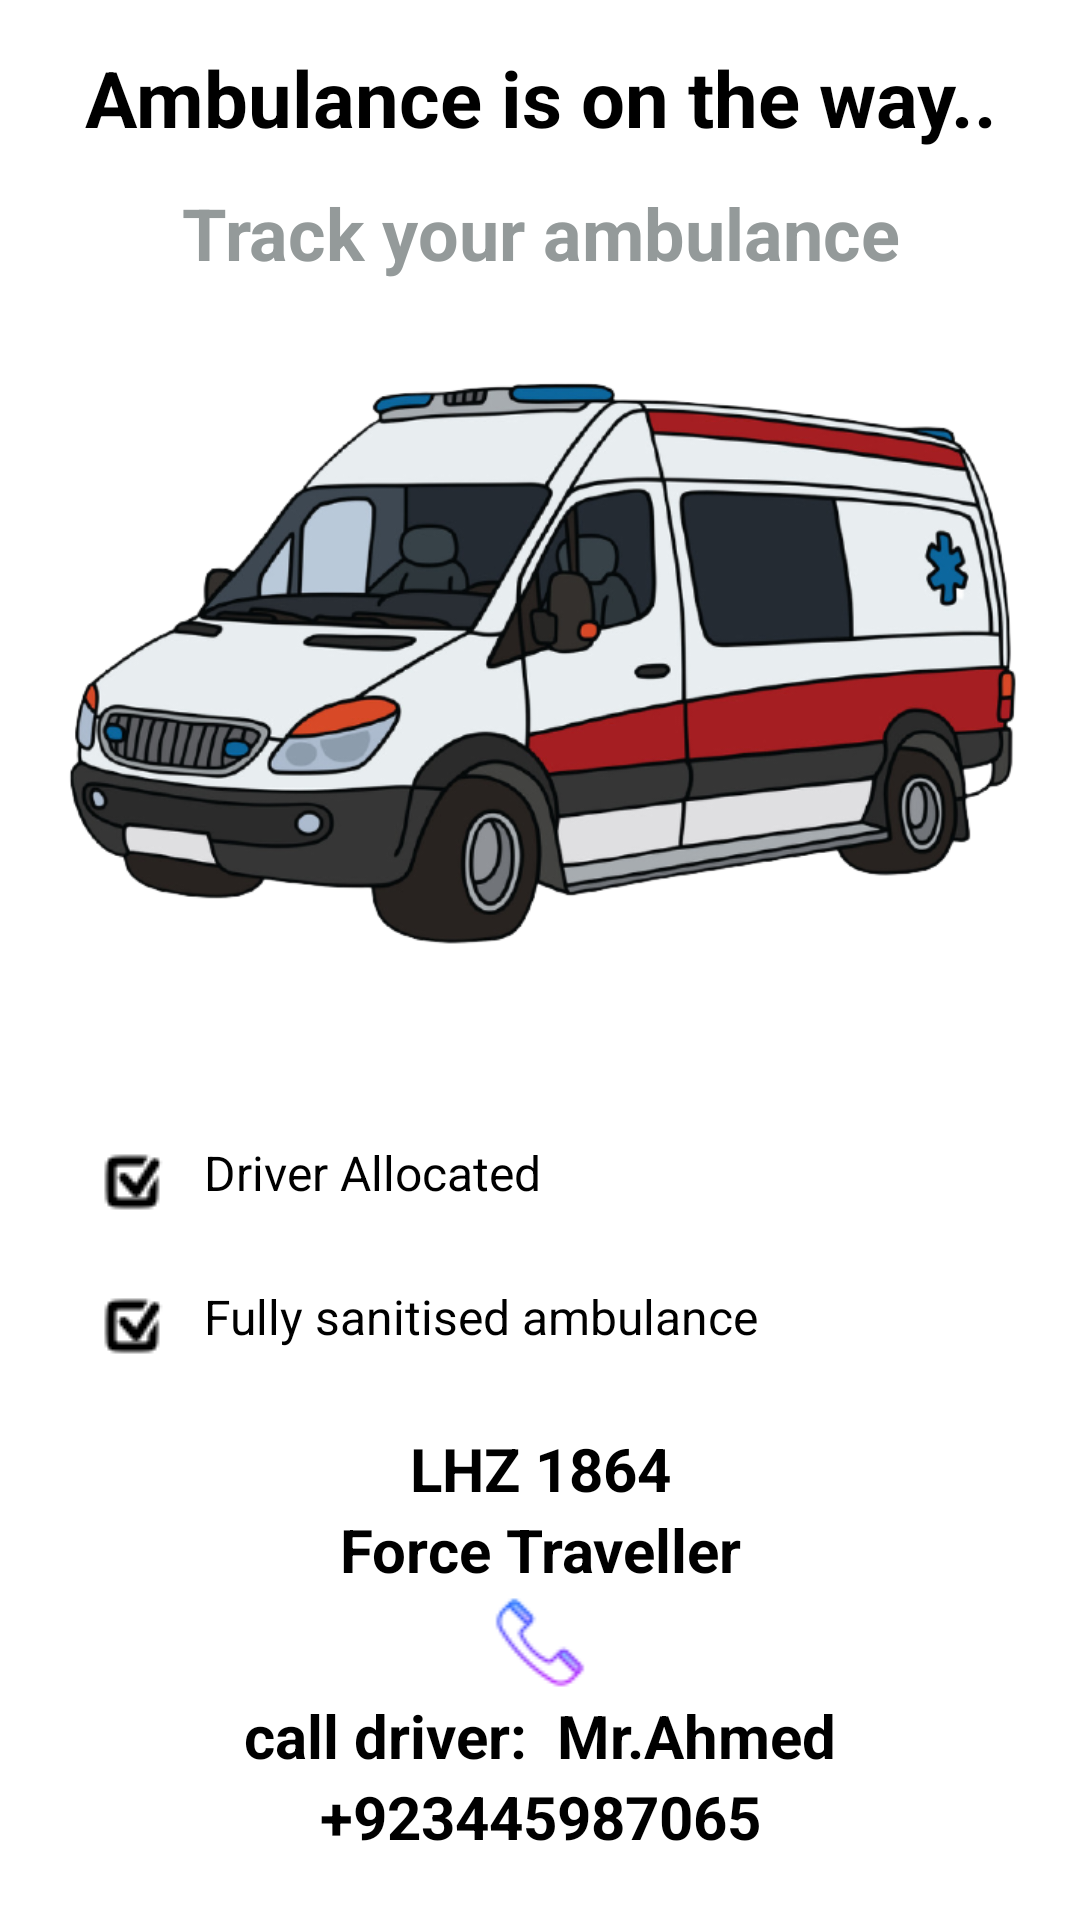

Named icons in this screenshot (1080×1920) and their bounding boxes, (left=x1, top=y1, right=x2, bottom=y2):
phone: (left=496, top=1598, right=584, bottom=1687)
